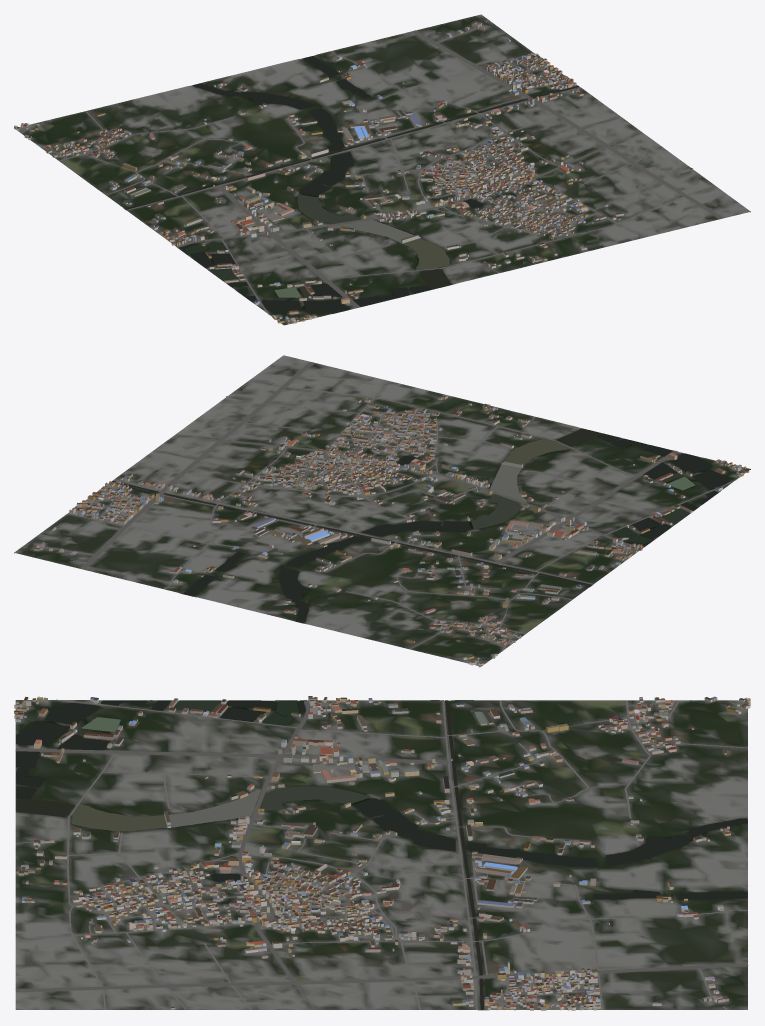
3 views of the same model, one above another, from view 1: azimuth 30°, elevation 25°; view 2: azimuth 150°, elevation 25°; view 3: azimuth 270°, elevation 25° (orthographic). The views are drawn at different scales.
Visible parts, largest first — view 1: ground, buildings, water, roads; view 2: ground, buildings, water, roads; view 3: ground, buildings, water, roads.
Part boxes in pixels (x1,y1,x2,y2): ground: [14, 14, 750, 325]; buildings: [14, 21, 693, 324]; water: [125, 56, 579, 313]; roads: [19, 20, 723, 321]; ground: [14, 355, 750, 666]; buildings: [34, 395, 749, 667]; water: [112, 428, 728, 622]; roads: [22, 361, 735, 665]; ground: [15, 700, 747, 1010]; buildings: [14, 696, 750, 1010]; water: [16, 700, 747, 1009]; roads: [15, 699, 748, 1010].
Bounding box in the file's own units: 1412 × 26.54 × 1411.
